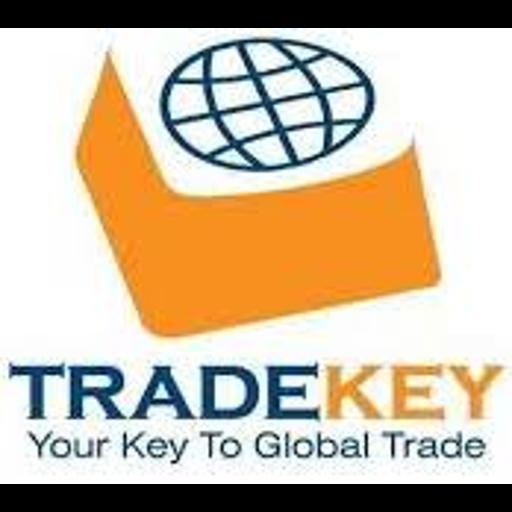TradeKey: (0, 28, 512, 484)
